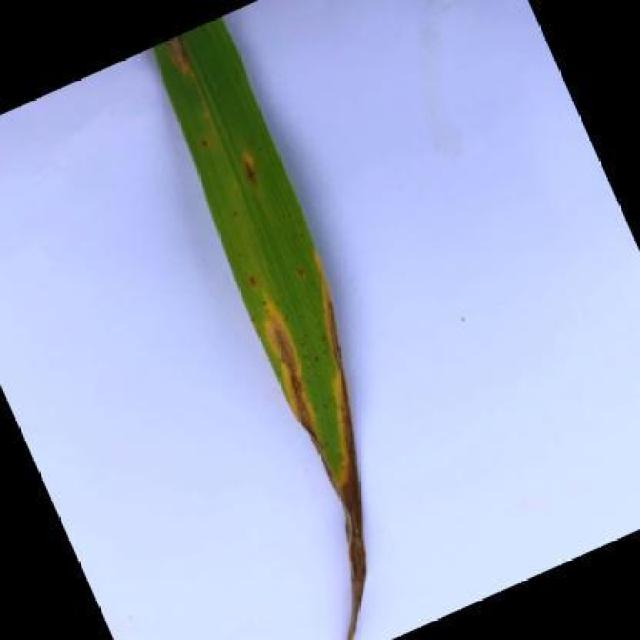Rice False Smut: (37, 11, 489, 640)
